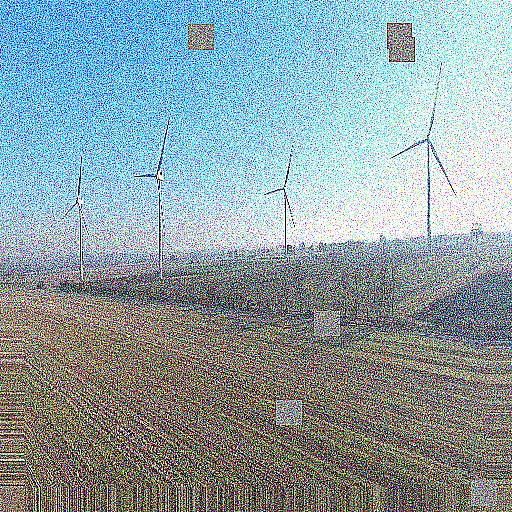wind turbine: (389, 62, 459, 238), (133, 118, 175, 280), (62, 152, 91, 285), (263, 143, 298, 247)
